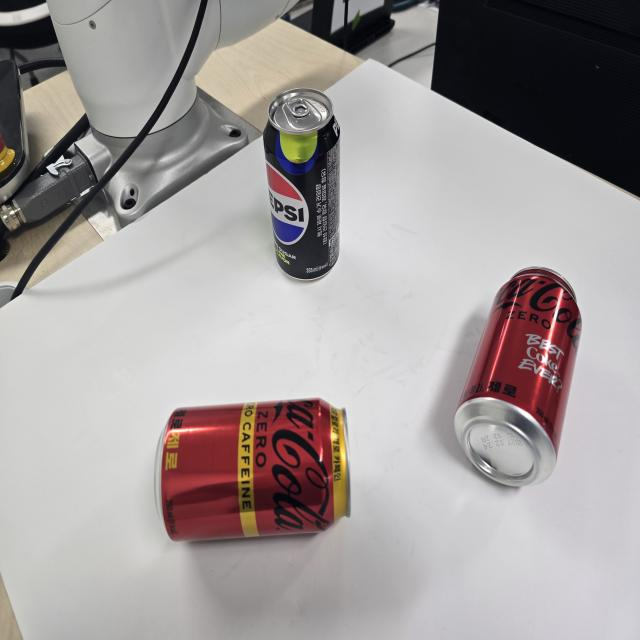can_coke_decaf: (155, 396, 350, 551)
can_coke_zero: (454, 263, 584, 496)
can_pepsi_zero: (262, 93, 343, 286)
